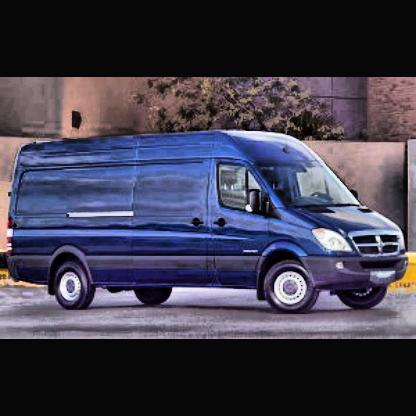Dodge Sprinter Cargo Van 2009: (8, 132, 410, 316)
